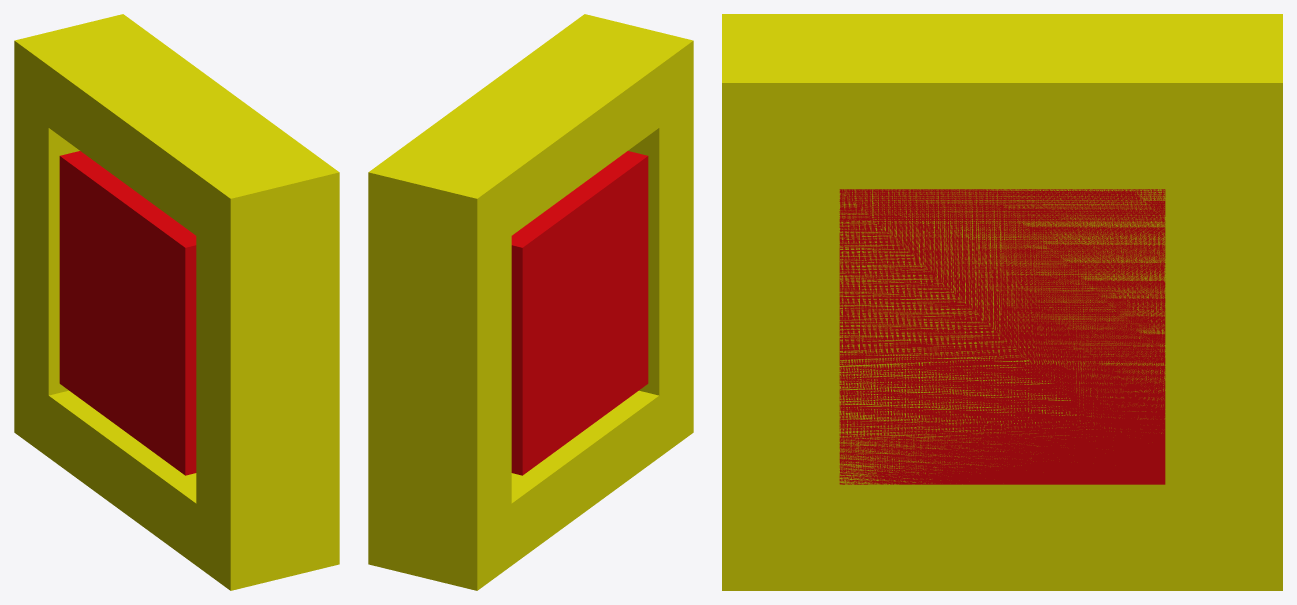
Rendered from TestButton.fbx.
3 renders of one model, left to right at view 1: azimuth 30°, elevation 25°; view 2: azimuth 150°, elevation 25°; view 3: azimuth 270°, elevation 25°, orthographic. The views are drawn at different scales.
Parts seen in each view (by area): view 1: ButtonHolder, Button; view 2: ButtonHolder, Button; view 3: ButtonHolder, Button.
Part boxes in pixels (x1,y1,x2,y2): ButtonHolder: (14,14,339,590); Button: (59,151,196,475); ButtonHolder: (368,14,693,590); Button: (511,151,648,475); ButtonHolder: (722,14,1282,590); Button: (839,189,1165,484).
Size of the model in its own units: 50 by 172 by 172.
